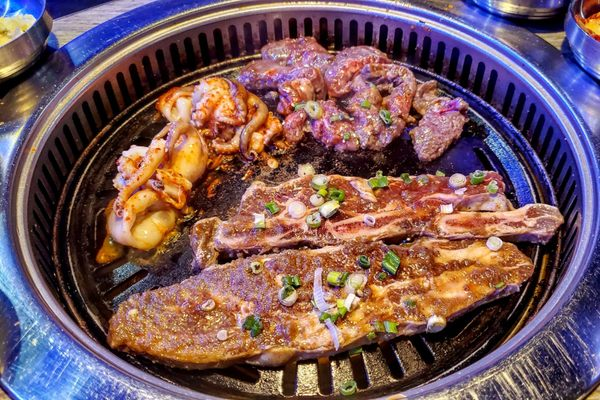curry: (5, 0, 595, 393)
sandwich: (95, 36, 575, 371), (106, 167, 559, 368)
